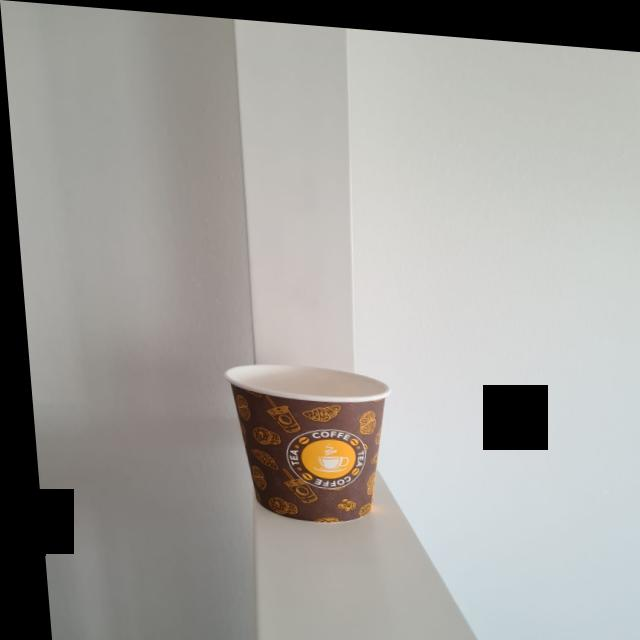cups: (214, 350, 389, 521)
